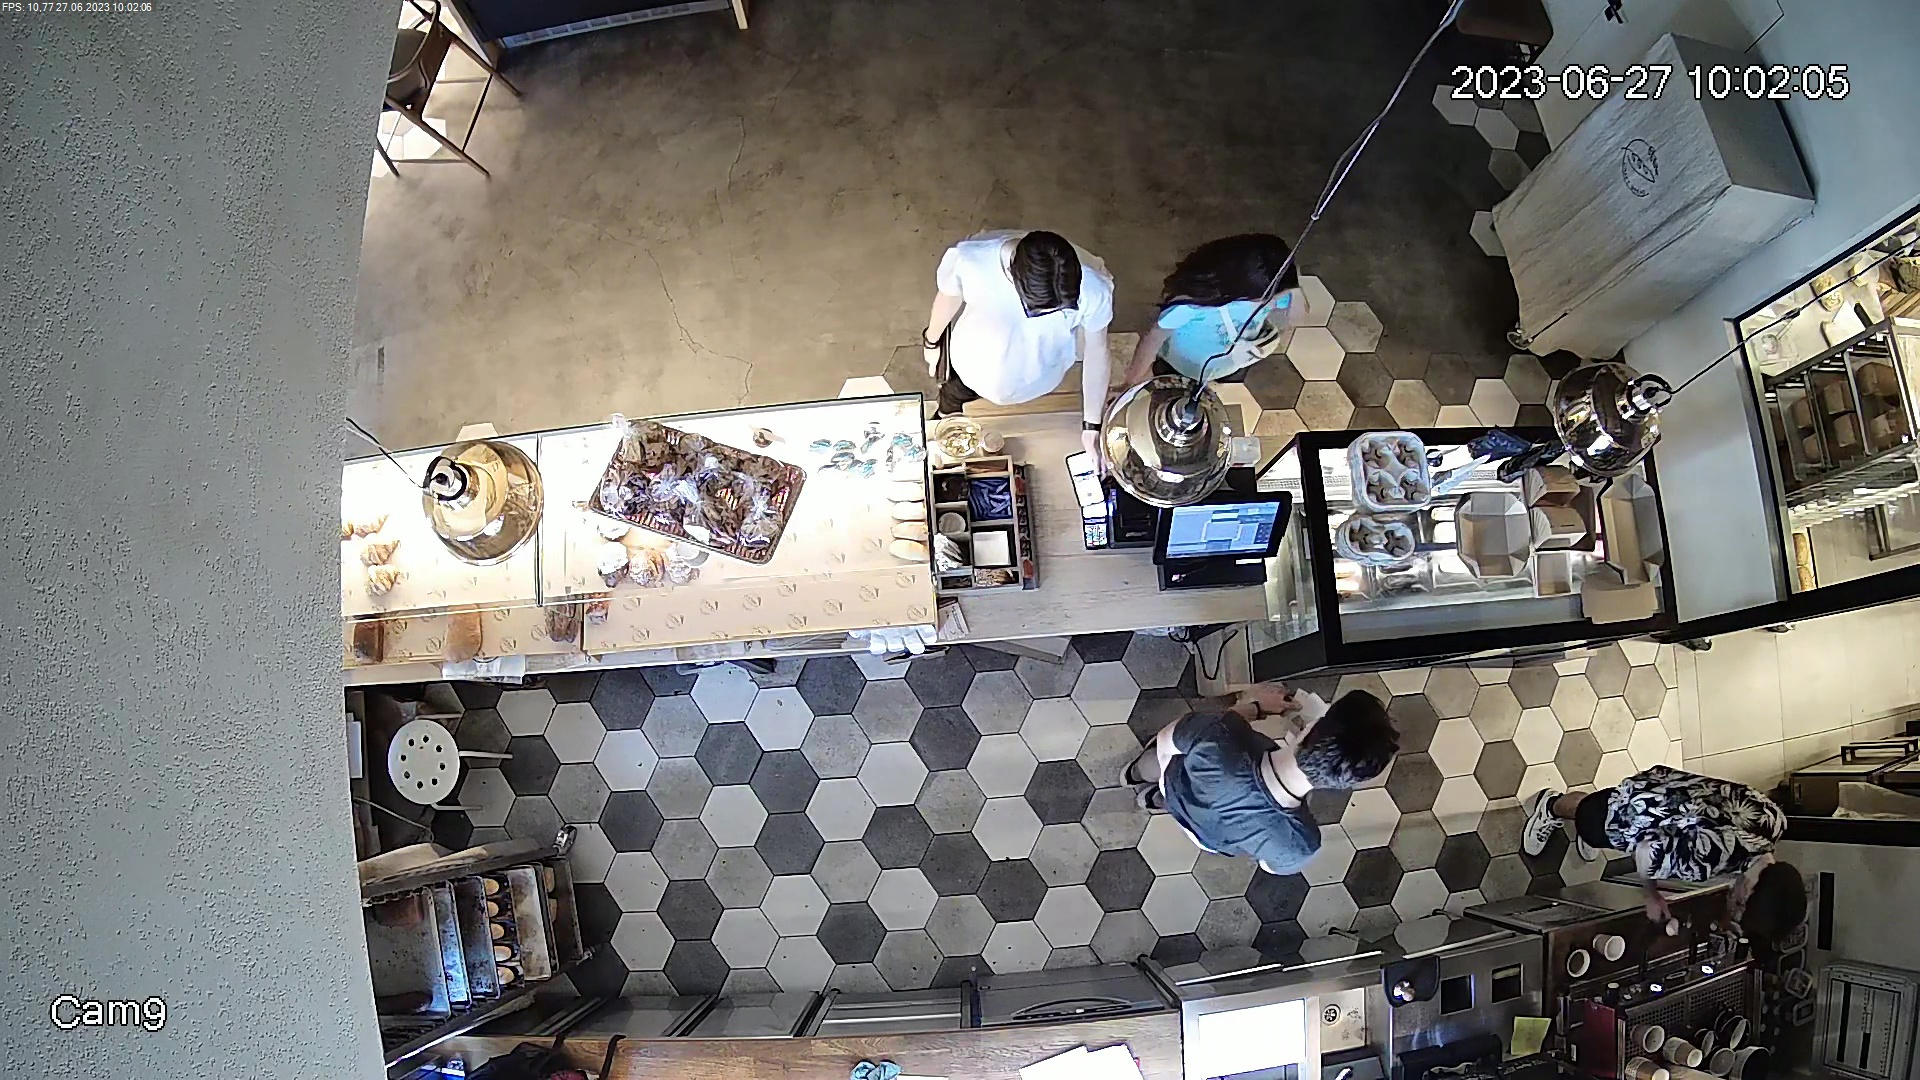person: (1516, 731, 1821, 955), (922, 185, 1121, 432)
terminal: (1076, 417, 1116, 556)
